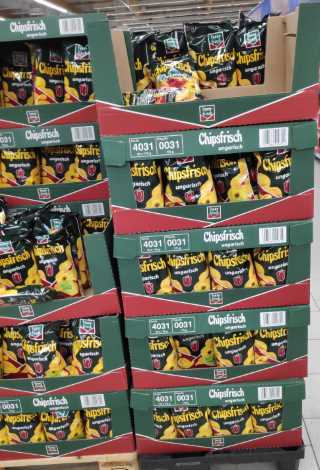chipsfrisch: (32, 228, 84, 299), (187, 25, 237, 87), (163, 156, 216, 206), (19, 323, 69, 376), (1, 234, 35, 292), (32, 42, 63, 103), (64, 41, 95, 102), (1, 45, 31, 106), (71, 318, 103, 375), (210, 250, 255, 290), (236, 24, 264, 85), (167, 252, 209, 291), (1, 148, 41, 186), (212, 330, 255, 364)
